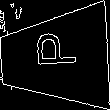P_W: (29, 38, 79, 77)
